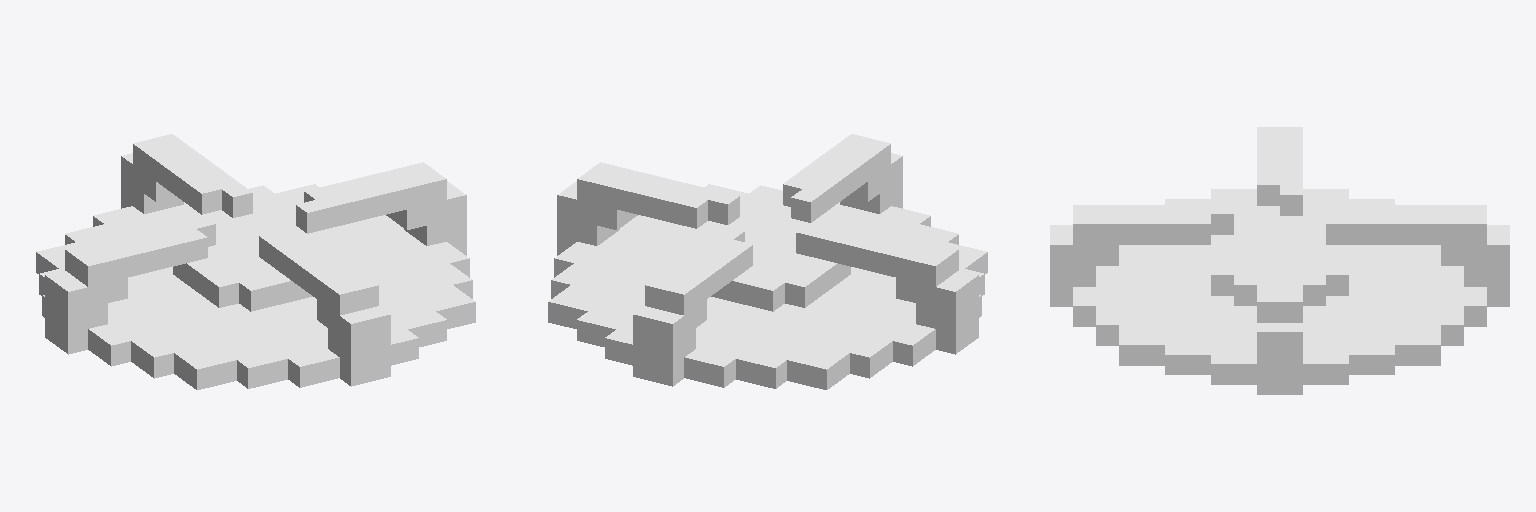
File: Burner.obj
3 views of the same model, side by side, from view 1: azimuth 30°, elevation 25°; view 2: azimuth 150°, elevation 25°; view 3: azimuth 270°, elevation 25° (orthographic).
Parts seen in each view (by area): view 1: object 1; view 2: object 1; view 3: object 1.
Boxes of the visible parts, x1,y1,x2,y2 form: object 1: [36, 134, 475, 389]; object 1: [548, 134, 987, 389]; object 1: [1050, 127, 1509, 394].
Bounding box in the file's own units: 2 × 0.4 × 2.